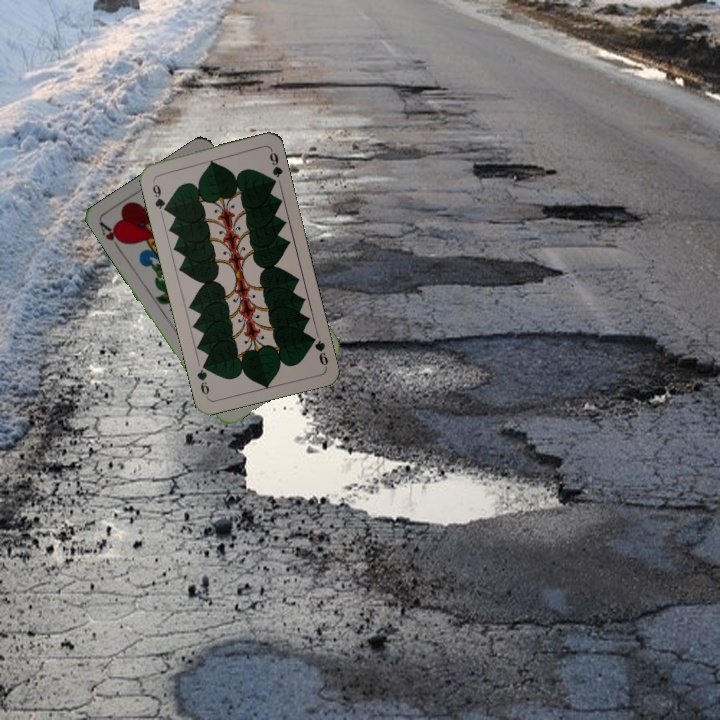G9: (306, 331, 331, 370), (148, 176, 170, 214)
HA: (95, 218, 127, 254)
